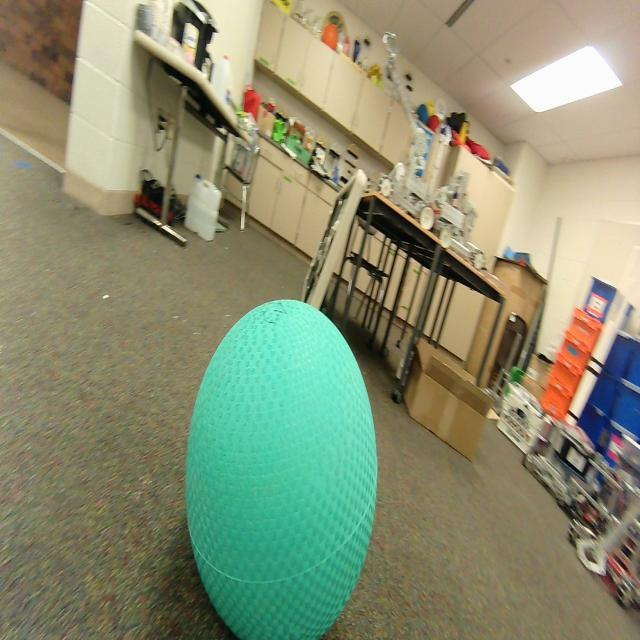algae: (185, 300, 378, 639)
